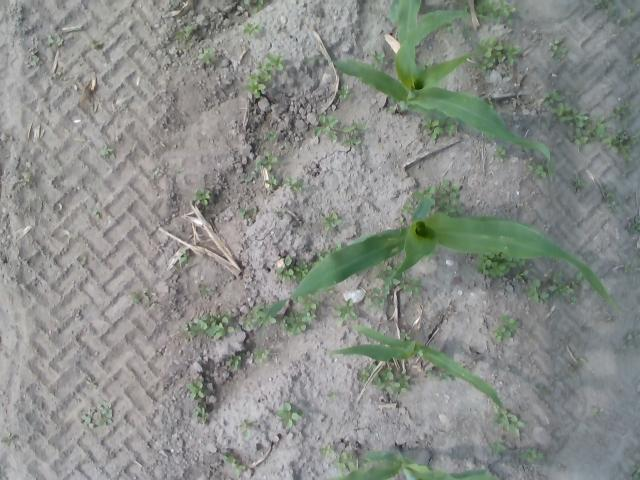Maize: (256, 194, 622, 347), (302, 10, 556, 184), (330, 323, 510, 429), (324, 445, 502, 480), (388, 0, 422, 65)
Weeds: (545, 88, 640, 164), (364, 265, 422, 310), (242, 50, 284, 98), (313, 113, 368, 148), (360, 362, 412, 397), (472, 38, 520, 73), (182, 312, 238, 338), (548, 267, 584, 304), (437, 176, 468, 216), (241, 299, 278, 332), (474, 255, 526, 278), (422, 115, 462, 142), (474, 0, 516, 25), (488, 312, 520, 344), (276, 400, 306, 432), (275, 254, 309, 282), (490, 408, 524, 436), (280, 311, 318, 336), (80, 401, 112, 428), (333, 296, 356, 330), (617, 328, 640, 360), (524, 278, 550, 305), (547, 36, 571, 63), (126, 289, 158, 308), (333, 451, 358, 475), (221, 455, 248, 477), (322, 210, 346, 234), (603, 184, 622, 214), (254, 151, 282, 171), (172, 249, 196, 272), (236, 418, 262, 438), (526, 159, 550, 180), (184, 379, 207, 400), (569, 173, 589, 195), (199, 46, 219, 67), (190, 188, 212, 206), (520, 448, 546, 463), (594, 0, 617, 16), (241, 24, 267, 38), (336, 84, 356, 102), (369, 51, 389, 69), (252, 347, 272, 365), (297, 294, 319, 310), (282, 177, 309, 190), (625, 213, 640, 236), (226, 354, 244, 373), (174, 25, 194, 42), (25, 46, 41, 67), (240, 204, 260, 220), (45, 32, 65, 48), (489, 438, 507, 455), (192, 406, 210, 422), (318, 443, 336, 459), (244, 168, 260, 185), (244, 0, 264, 13), (264, 127, 280, 143), (264, 174, 280, 190), (494, 145, 508, 163), (99, 142, 114, 158), (151, 166, 164, 184), (2, 434, 21, 446), (197, 283, 214, 296), (402, 200, 416, 215), (438, 372, 454, 384), (411, 189, 424, 203), (400, 328, 413, 342), (630, 462, 640, 480), (541, 382, 552, 396), (422, 186, 436, 197), (514, 270, 529, 280), (327, 390, 339, 402), (424, 368, 436, 380), (422, 56, 434, 68), (20, 172, 33, 183), (92, 38, 102, 50), (631, 52, 640, 65), (628, 8, 636, 22), (388, 104, 396, 115), (568, 363, 576, 373), (92, 210, 100, 220), (175, 167, 186, 174), (488, 96, 494, 108), (428, 254, 438, 261), (446, 24, 453, 34), (591, 406, 599, 414), (578, 358, 586, 366), (328, 287, 337, 294), (463, 6, 470, 12)
